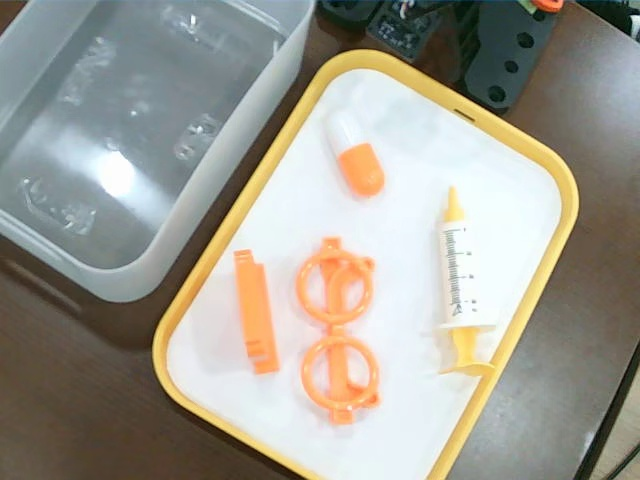pill: (322, 103, 387, 198)
syringe: (430, 182, 505, 379)
